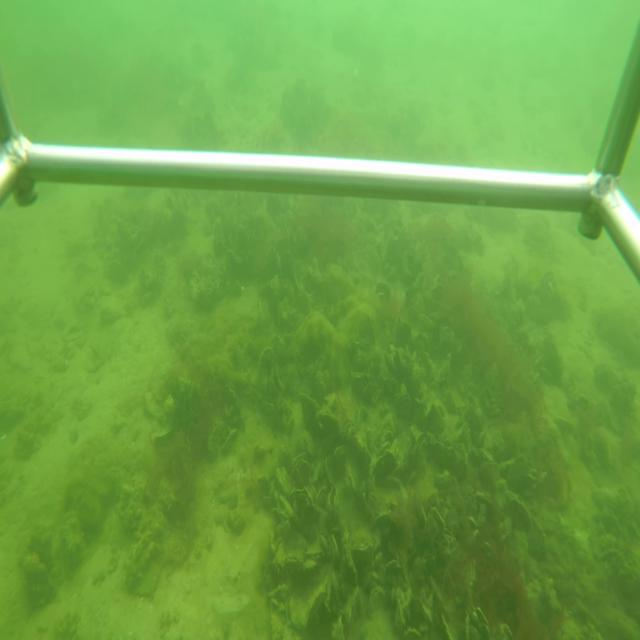Oyster-Closed: (350, 433, 373, 485), (341, 525, 358, 578), (317, 409, 339, 446), (395, 392, 412, 423), (284, 549, 306, 569), (350, 371, 365, 396), (353, 539, 375, 553), (331, 534, 341, 563), (327, 535, 331, 566)
Oyster-Indeterminate: (373, 449, 398, 484), (286, 488, 315, 513), (291, 458, 313, 483), (221, 428, 238, 457)
Oyster-Open: (325, 484, 342, 522), (428, 508, 447, 540), (271, 364, 286, 397), (304, 546, 326, 561), (315, 485, 328, 505)
